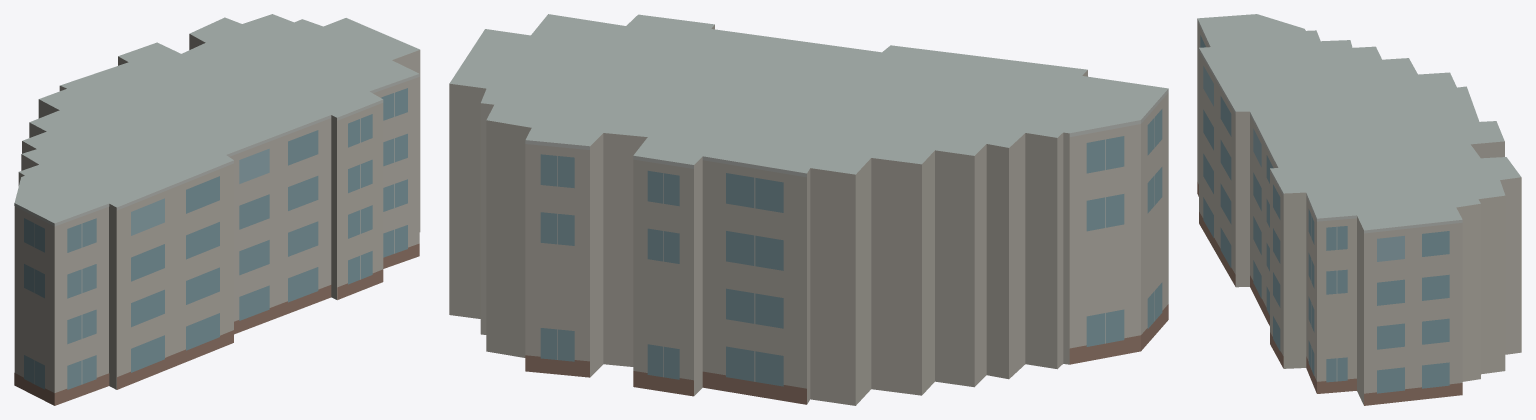
File: survey-upis-32837359.glb
3 views of the same model, side by side, from view 1: azimuth 30°, elevation 25°; view 2: azimuth 150°, elevation 25°; view 3: azimuth 270°, elevation 25° (orthographic). The views are drawn at different scales.
Parts seen in each view (by area): view 1: survey-upis-32837359.tmp; view 2: survey-upis-32837359.tmp; view 3: survey-upis-32837359.tmp.
Part boxes in pixels (x1,y1,x2,y2): survey-upis-32837359.tmp: (14,14,420,405); survey-upis-32837359.tmp: (449,14,1168,405); survey-upis-32837359.tmp: (1197,14,1521,405).
Bounding box in the file's own units: 38.14 × 14.4 × 24.13.
